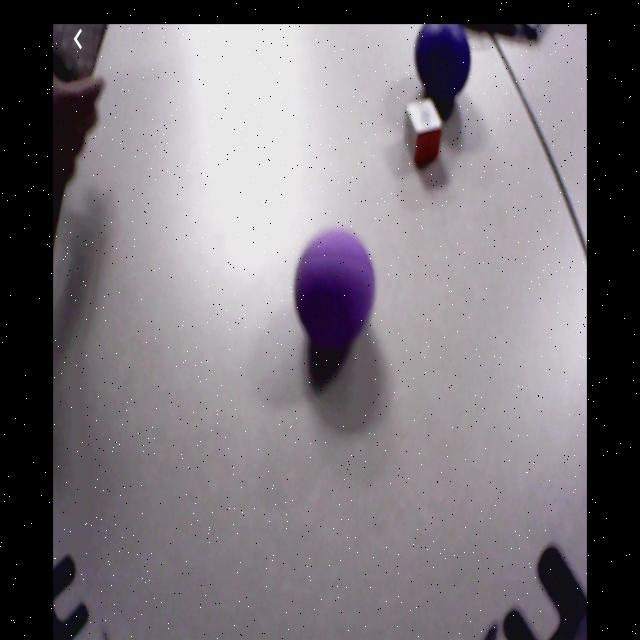ball: (293, 232, 377, 348), (415, 25, 472, 100)
